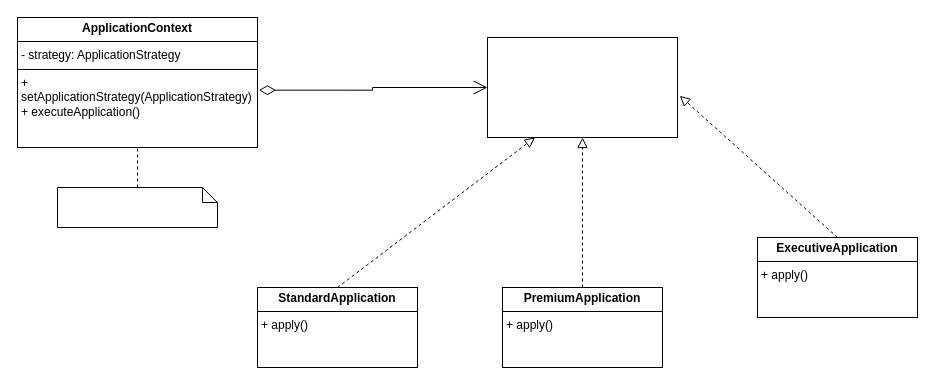
This 935x385 diagram has some shape labels left out. The shapes that lost their labels are listed below. From the top down, each one's centre as x and y in pixels, then its label:
At (x=582, y=87): "<<Interface>> ApplicationStrategy + apply (): void".
At (x=137, y=207): "application=strategy.apply()".
